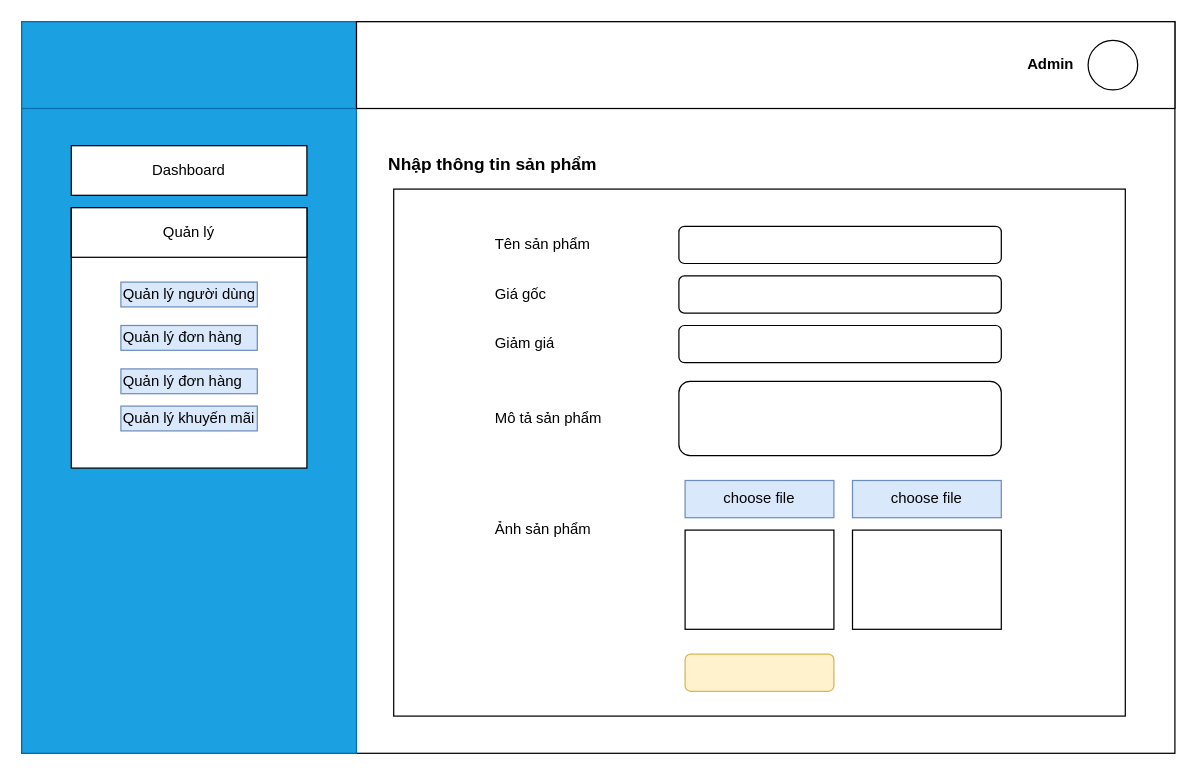
Some shapes in this 1197 by 775 pixel diagram are drawn without their labels. The shapes that lost their labels are listed below. From the top down, each one's centre as x and y in pixels, then its label:
At point (188, 64): "Trang quản trị".
At point (759, 672): "Thêm mới".
